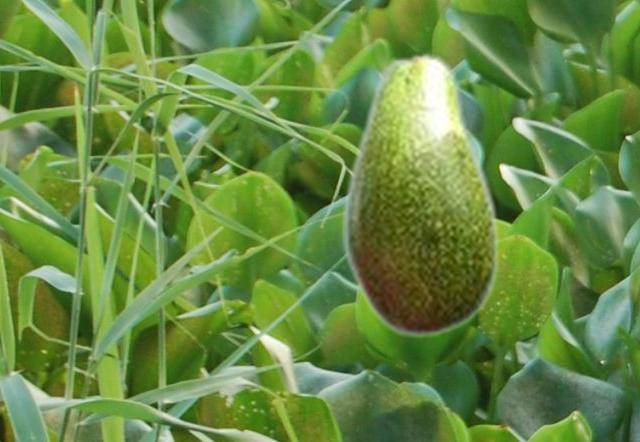avocado: (342, 50, 499, 339)
